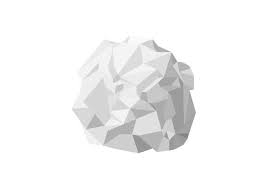crumpled paper: (74, 41, 200, 148)
